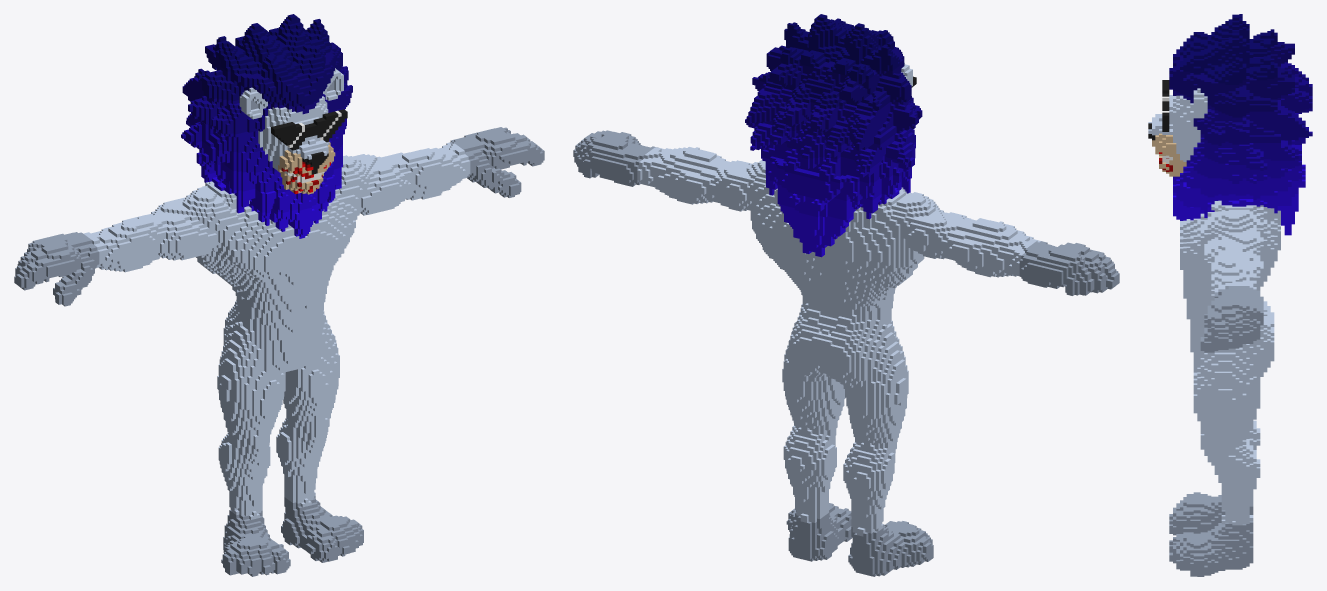
The picture shows the model from 3 angles, left to right: view 1: azimuth 30°, elevation 25°; view 2: azimuth 150°, elevation 25°; view 3: azimuth 270°, elevation 25°; orthographic projection. The views are drawn at different scales.
Visible parts, largest first — view 1: blood; view 2: blood; view 3: blood.
Part boxes in pixels (x1=…): blood: x1=14, y1=14, x2=544, y2=576; blood: x1=573, y1=14, x2=1119, y2=576; blood: x1=1148, y1=14, x2=1312, y2=576.
Size of the model in its own units: 17.2 by 16.5 by 4.7.
4 materials, 4 textured.
